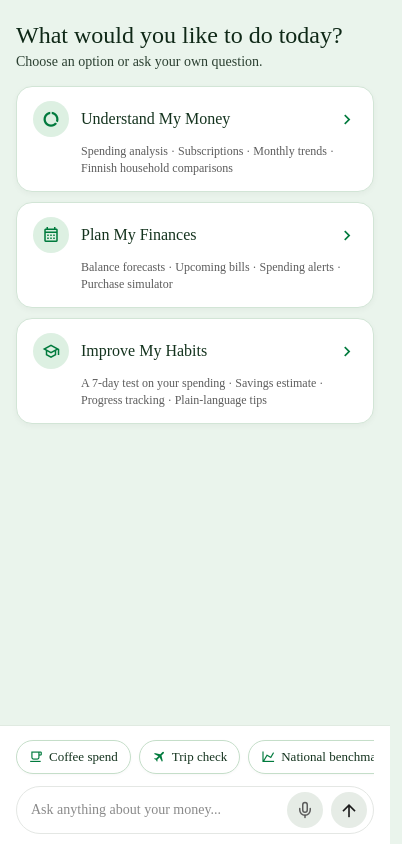
Test: chat experience › typed messages appear as the customer's bubble and the coach answers in a bubble
The image size is (402, 844).
In the field with placeholder "Ask anything about your money...": coordinates (155, 810) [31, 790, 279, 830], type "hi coach"
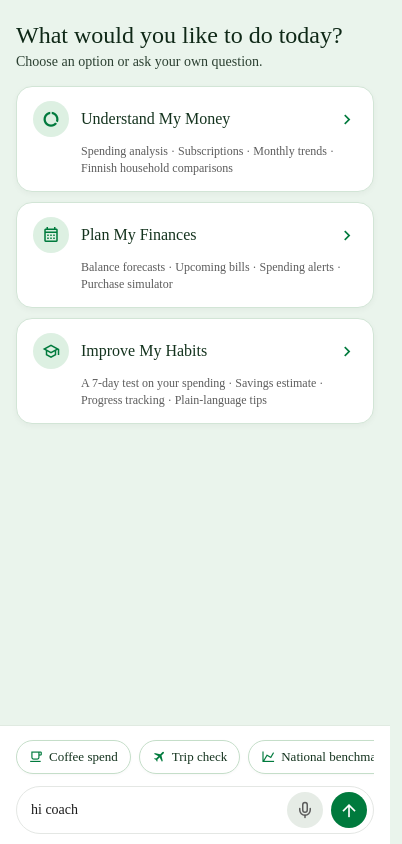
Press Enter in the field with placeholder "Ask anything about your money...", box [31, 790, 279, 830]
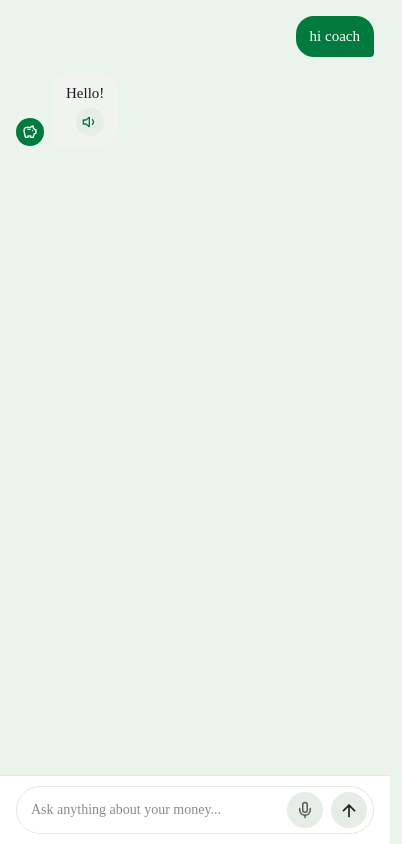
Expected: the element with test id "bubble-coach" is shown, [52, 73, 118, 146]
Expected: the text "hi coach" is shown, [310, 26, 360, 47]
